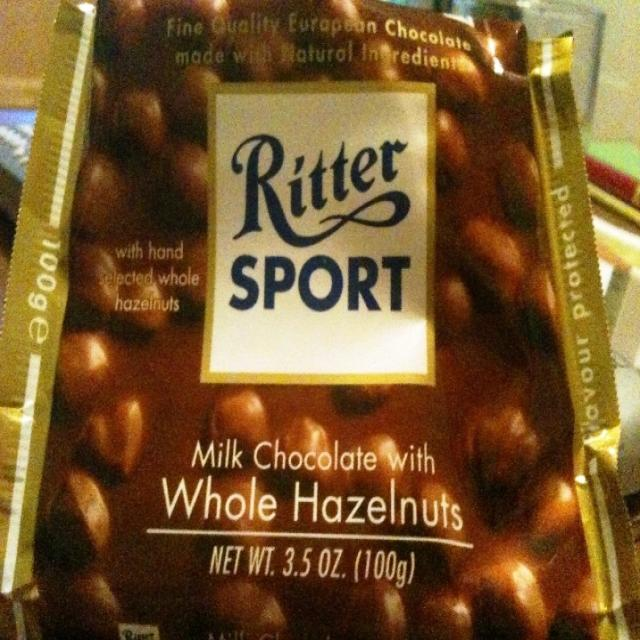rittersport: (201, 86, 437, 387)
